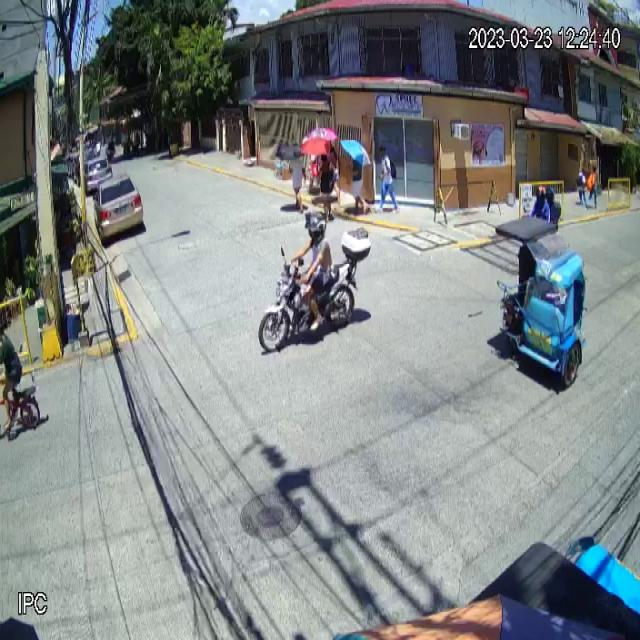Motorcycle: (258, 227, 371, 352)
Tricycle: (491, 212, 588, 386)
